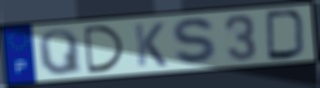3: (223, 12, 259, 64)
D: (81, 24, 127, 75), (264, 9, 308, 61)
K: (132, 21, 169, 68)
Q: (35, 27, 84, 77)
S: (170, 17, 221, 67)
